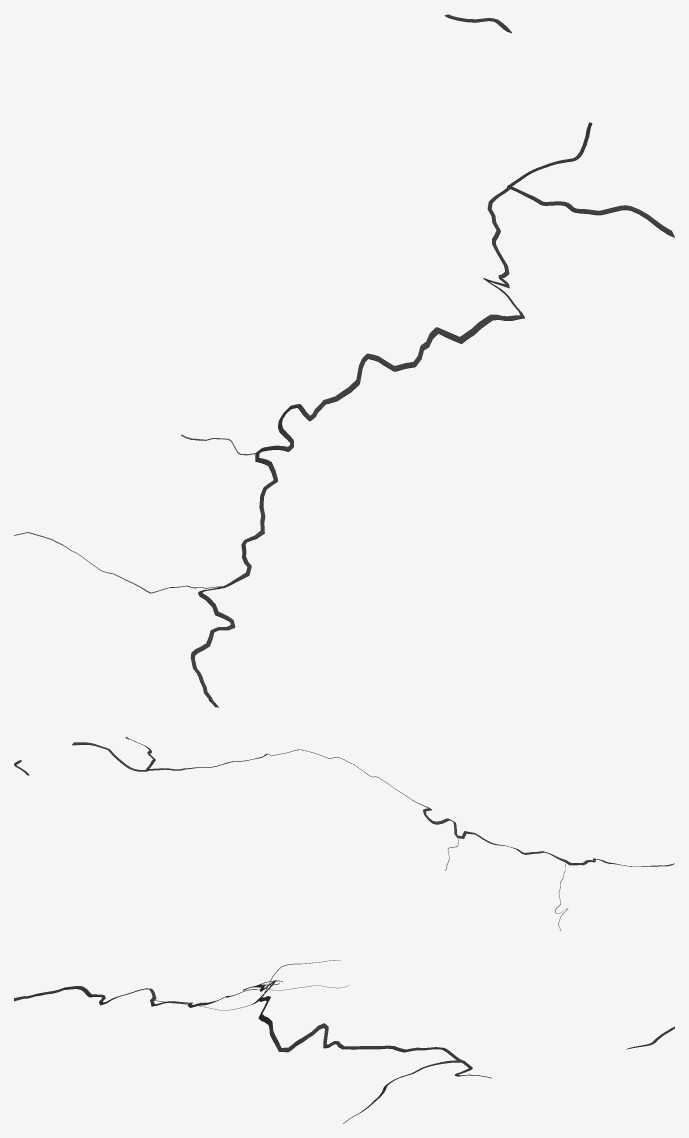
3 renders of one model, top to bottom at view 1: azimuth 30°, elevation 25°; view 2: azimuth 150°, elevation 25°; view 3: azimuth 270°, elevation 25°, orthographic. The views are drawn at different scales.
Size of the model in its own units: 1174 by 452 by 1166.
